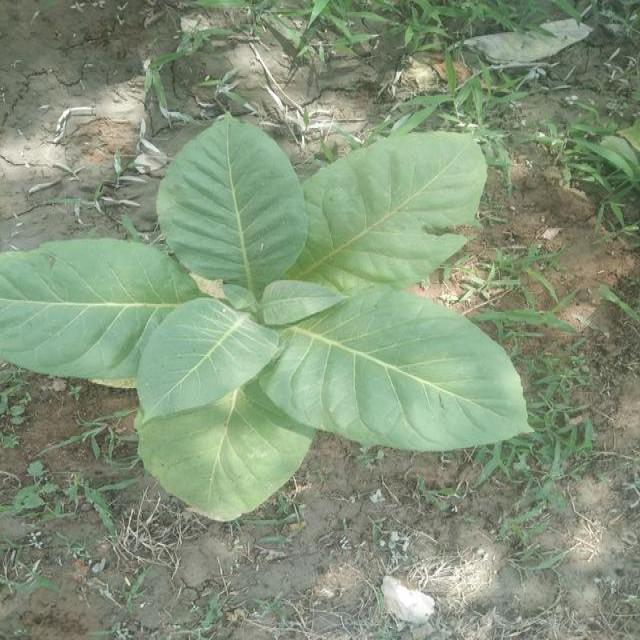crop: (0, 110, 536, 518)
